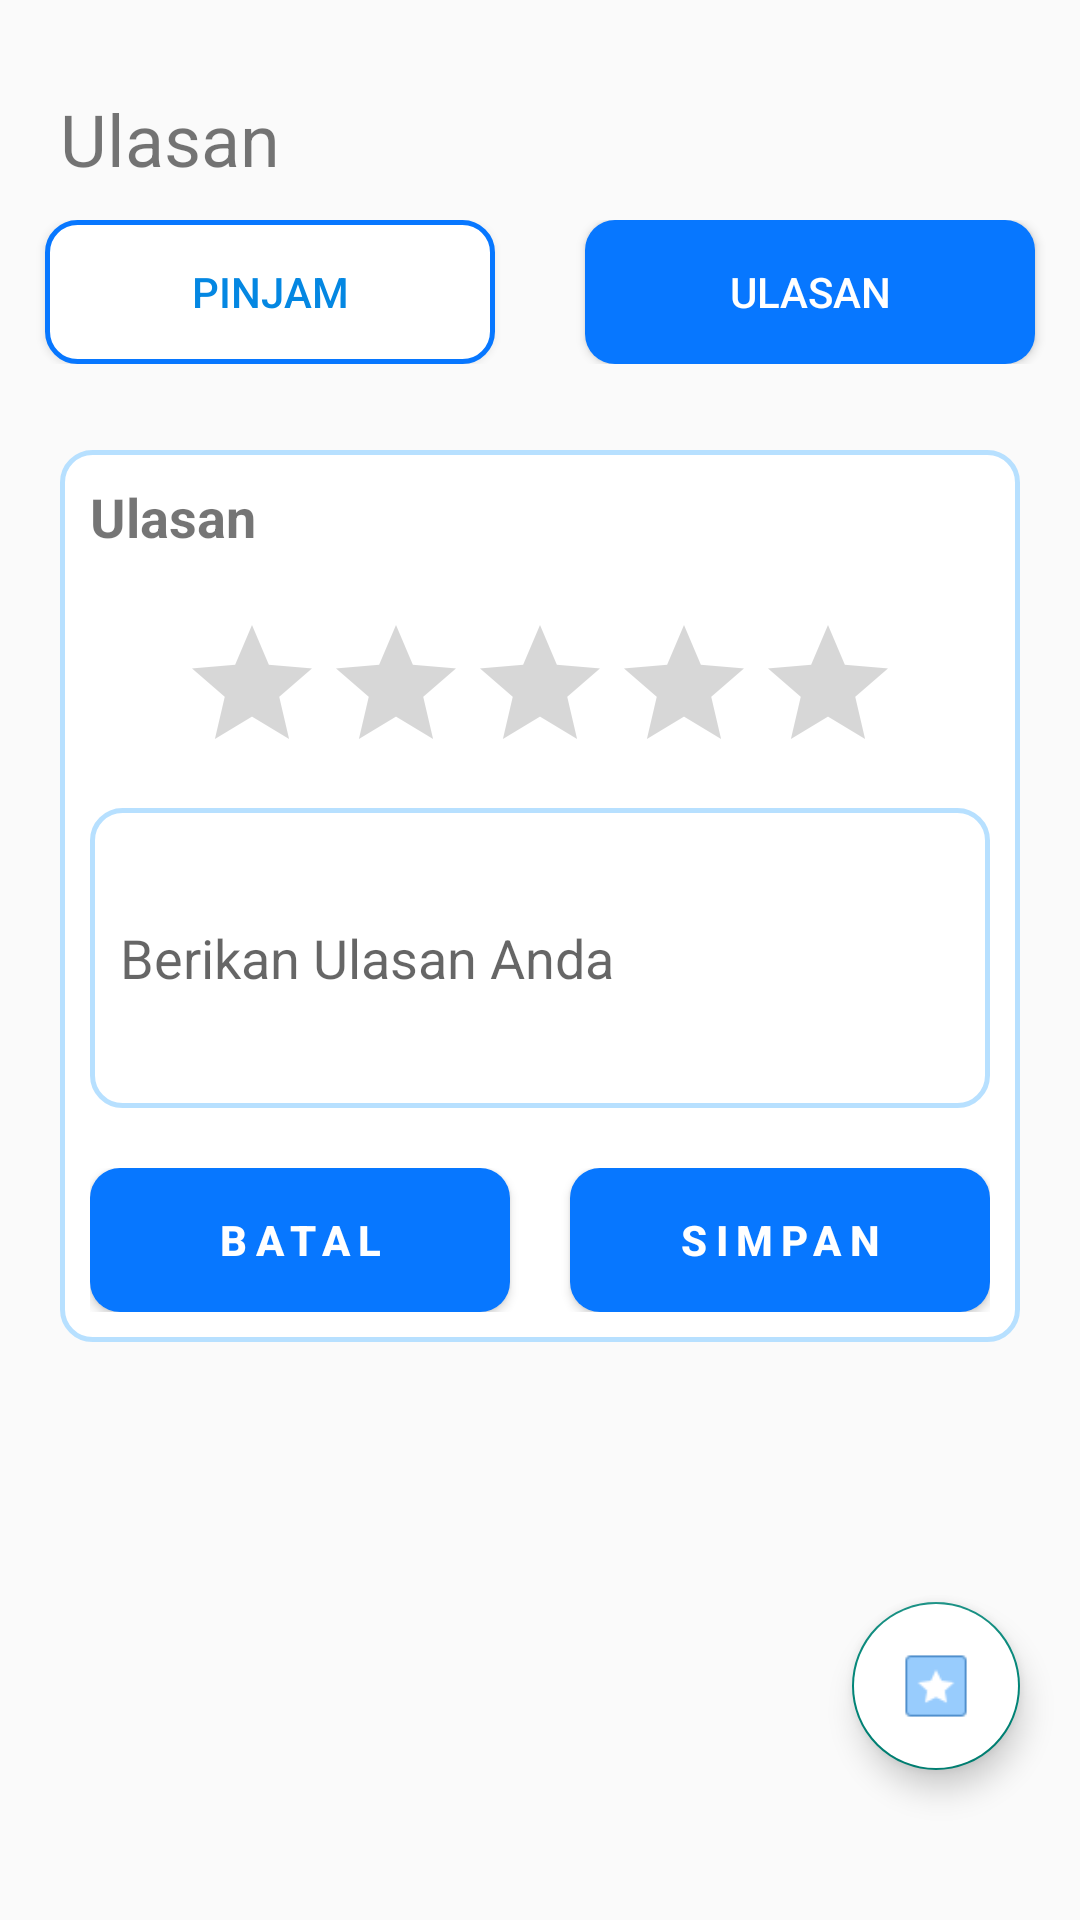

Where to tap for icons on this 1080x1920 app screen, as point (x, y):
ulasan: point (936, 1686)
